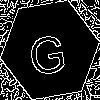G: (25, 25, 68, 77)
